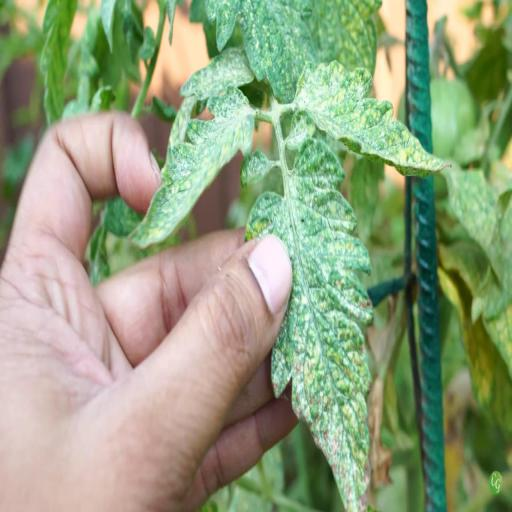disease_tomato: (240, 142, 378, 512), (124, 79, 256, 249), (294, 52, 454, 180), (200, 0, 317, 105), (287, 0, 384, 85), (177, 46, 253, 98)
